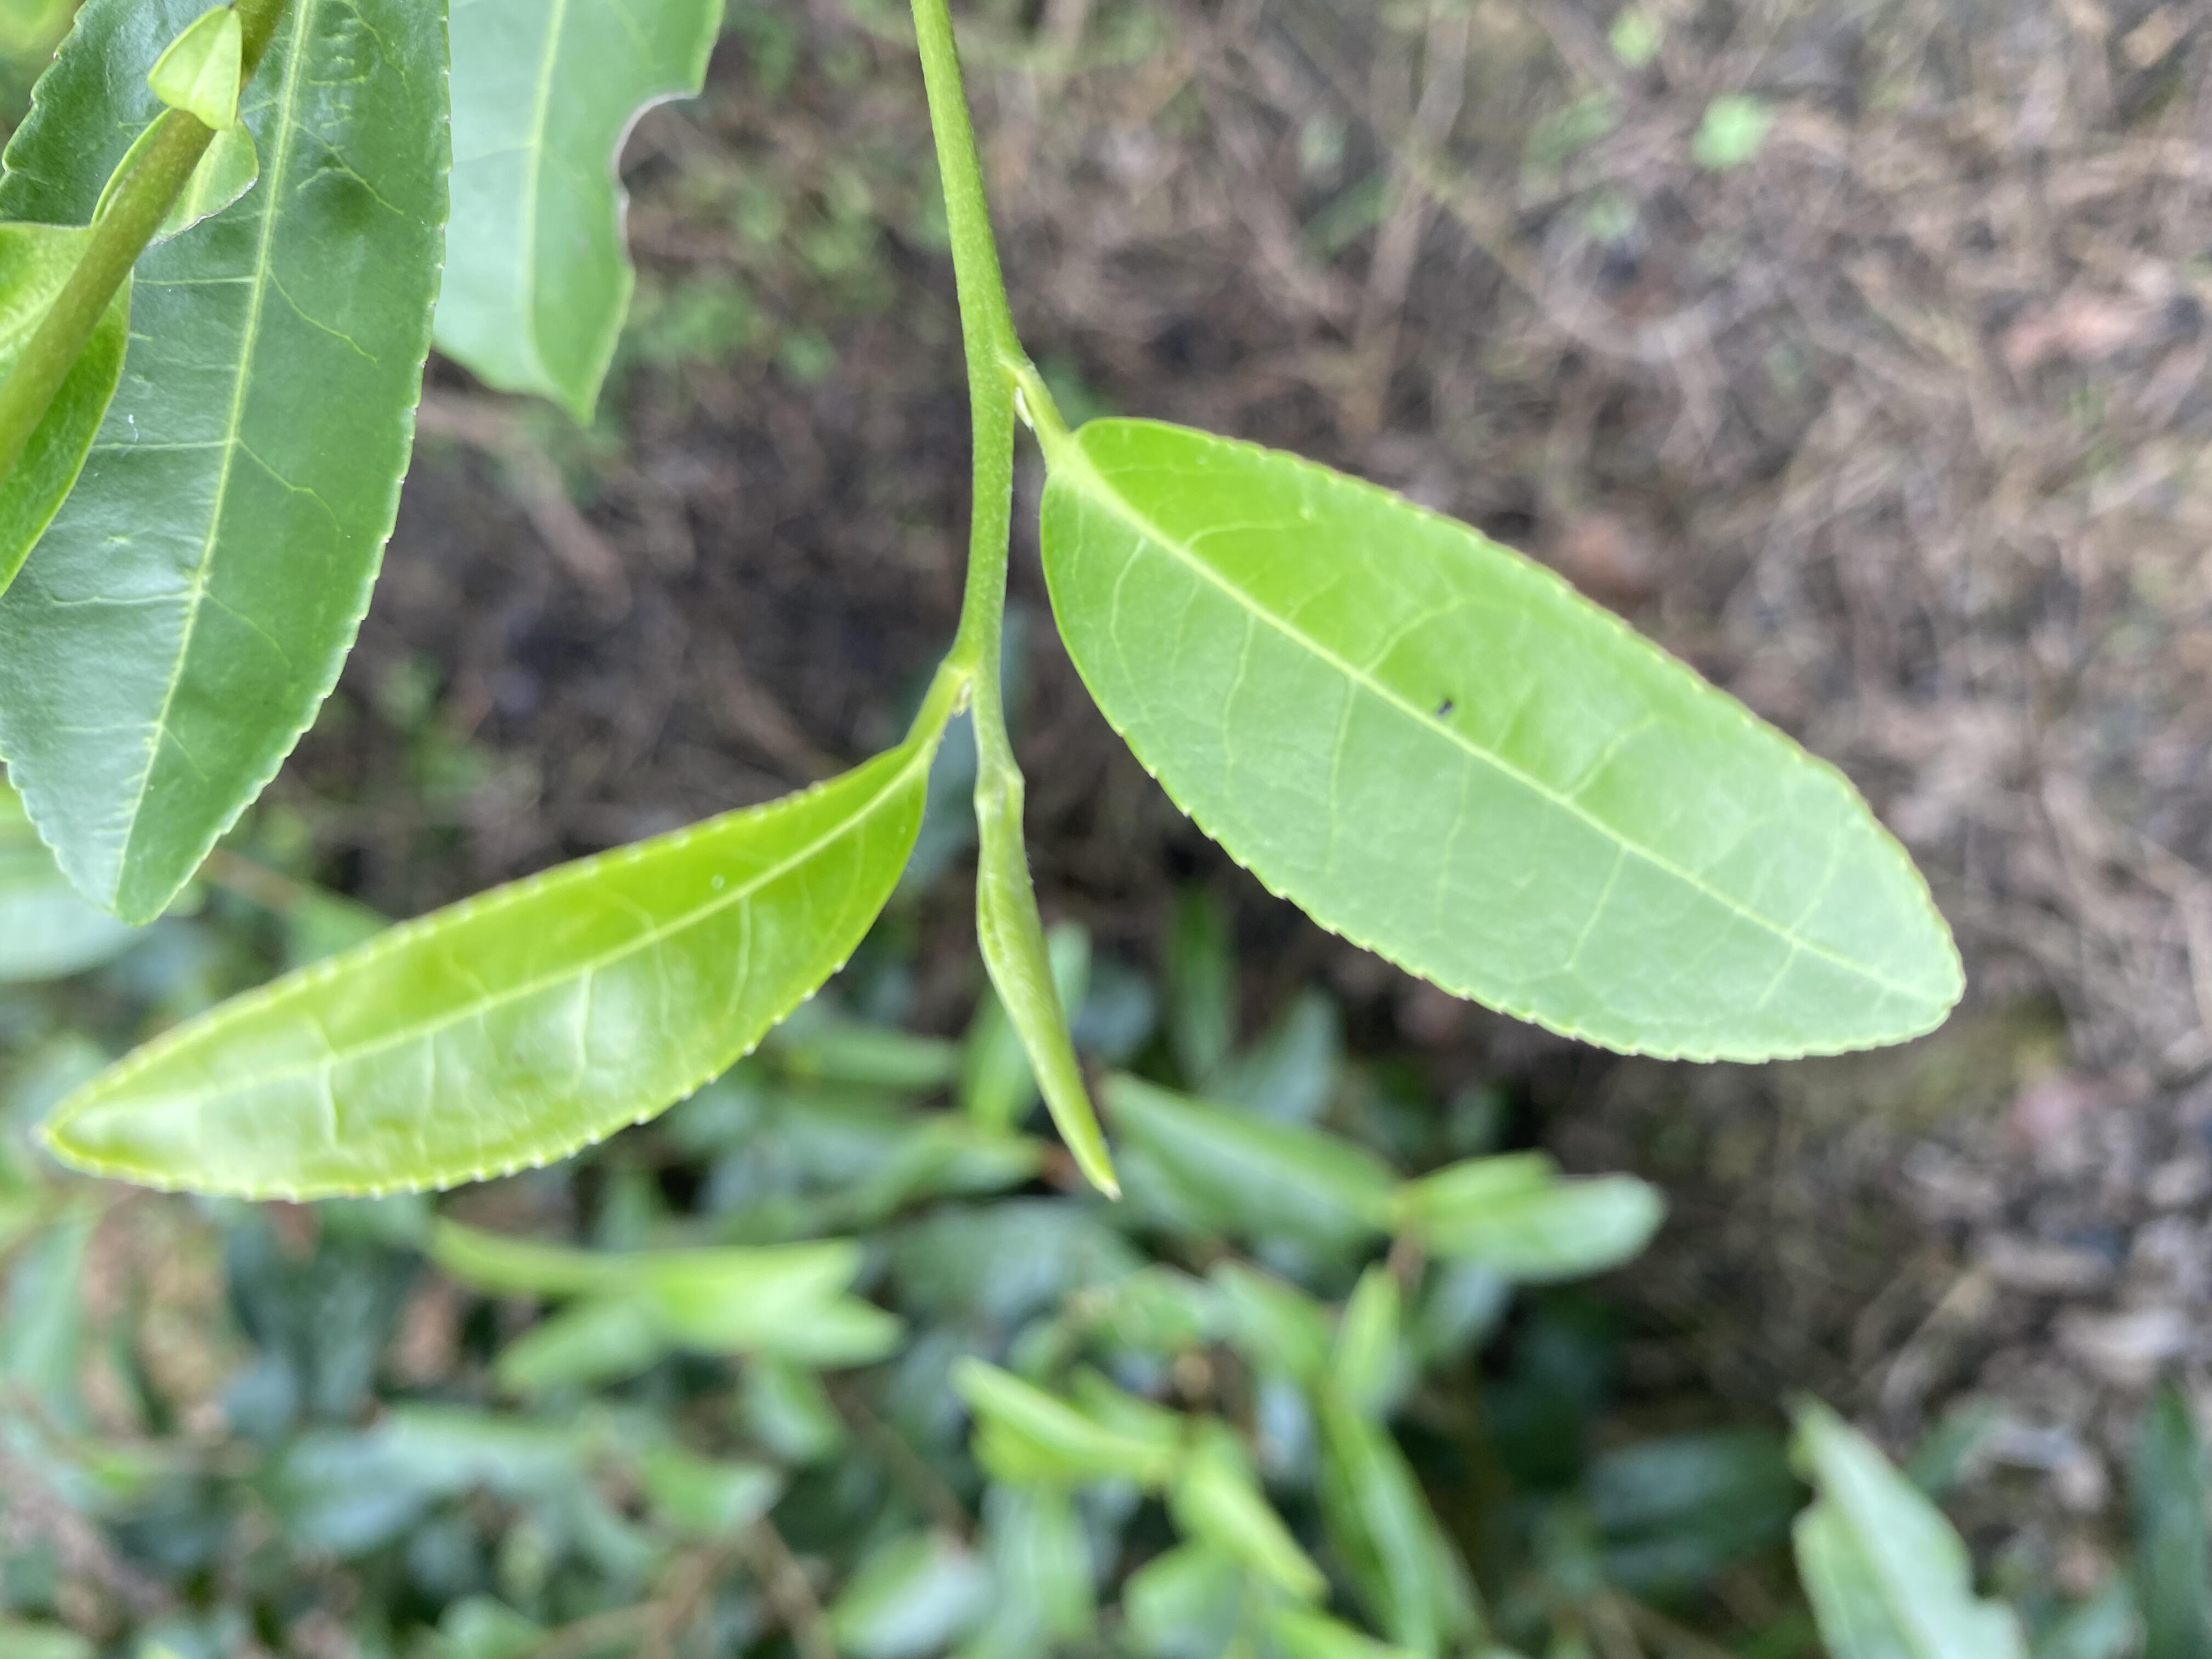healthy: (37, 748, 932, 1202)
tanju_low: (1035, 418, 1966, 1070)
